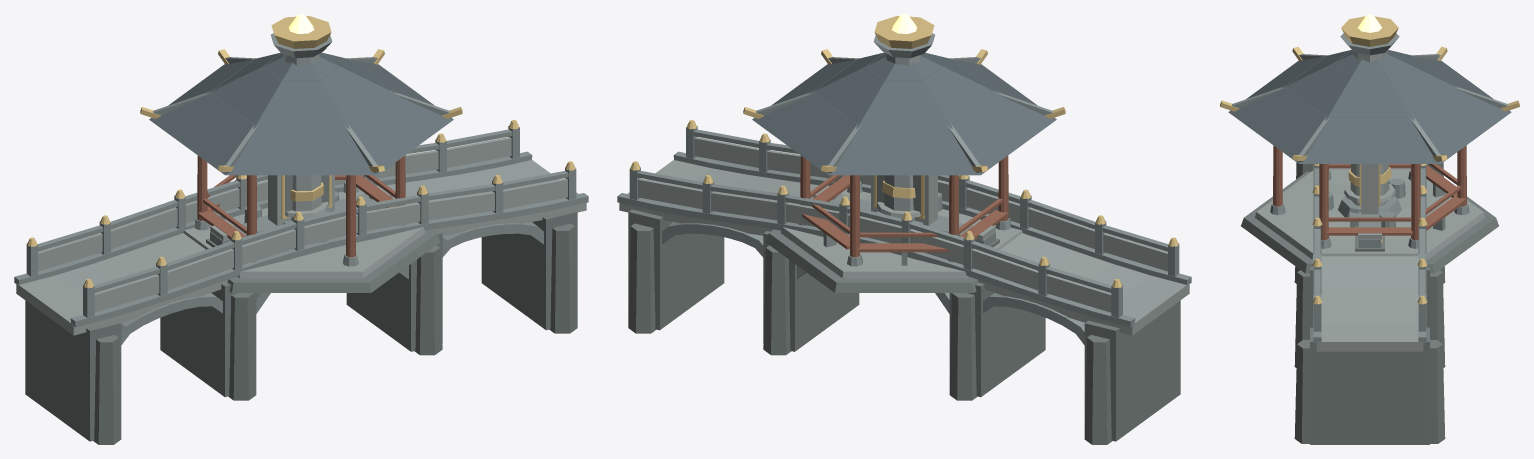
The model's file is v085_landmarks.glb.
3 renders of one model, left to right at view 1: azimuth 30°, elevation 25°; view 2: azimuth 150°, elevation 25°; view 3: azimuth 270°, elevation 25°, orthographic. The views are drawn at different scales.
Parts seen in each view (by area): view 1: bridge_multi_arch, tea_hill_pavilion, arena_dragon_pillar, cliff_stele, arena_altar_rim; view 2: bridge_multi_arch, tea_hill_pavilion, arena_dragon_pillar, cliff_stele, arena_altar_rim; view 3: tea_hill_pavilion, bridge_multi_arch, arena_dragon_pillar, cliff_stele, arena_altar_rim.
Part boxes in pixels (x1,y1,x2,y2): bridge_multi_arch: (14, 120, 588, 444); tea_hill_pavilion: (140, 49, 462, 292); arena_dragon_pillar: (270, 14, 332, 225); cliff_stele: (257, 175, 345, 225); arena_altar_rim: (206, 185, 392, 247); bridge_multi_arch: (617, 120, 1191, 444); tea_hill_pavilion: (743, 49, 1065, 292); arena_dragon_pillar: (873, 14, 935, 225); cliff_stele: (864, 175, 948, 225); arena_altar_rim: (813, 185, 999, 247); tea_hill_pavilion: (1220, 46, 1519, 273); bridge_multi_arch: (1294, 162, 1445, 444); arena_dragon_pillar: (1338, 14, 1401, 217); cliff_stele: (1350, 164, 1380, 227); arena_altar_rim: (1355, 211, 1384, 251).
Bounding box in the file's own units: 14.07 × 9.01 × 7.65.
